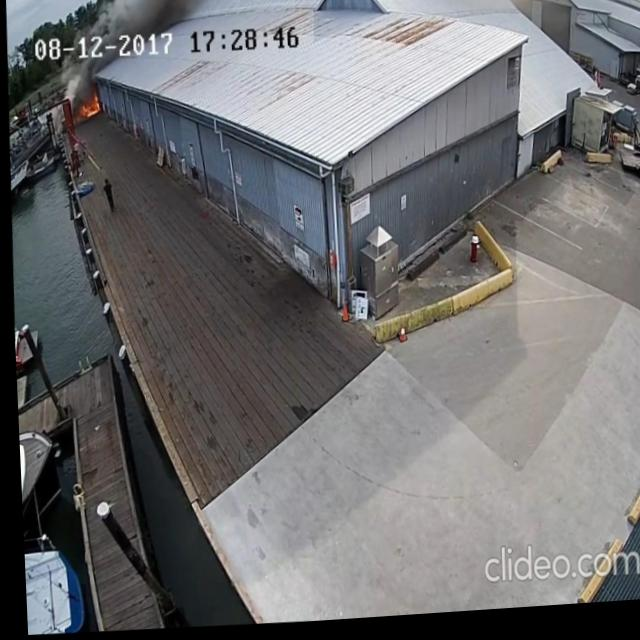fire: (75, 92, 102, 121)
